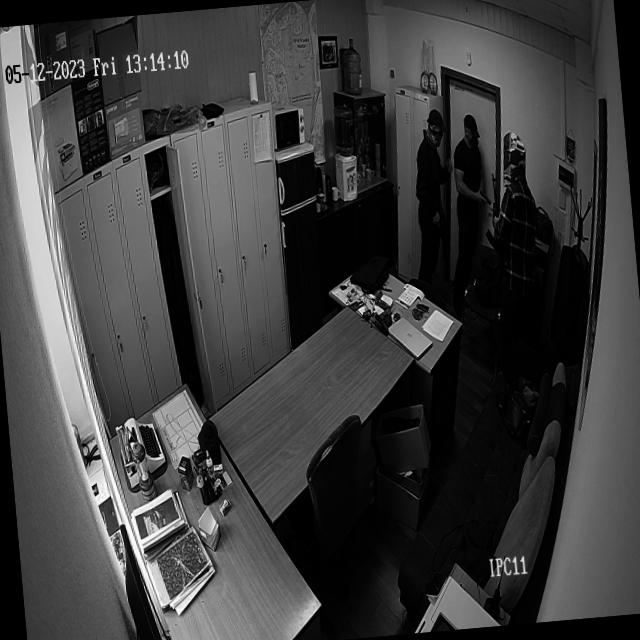gun: (485, 170, 509, 284), (429, 192, 452, 270), (474, 183, 492, 207)
person: (488, 147, 551, 364)
person with a gun: (478, 146, 550, 364), (407, 105, 462, 284), (448, 112, 493, 216)
